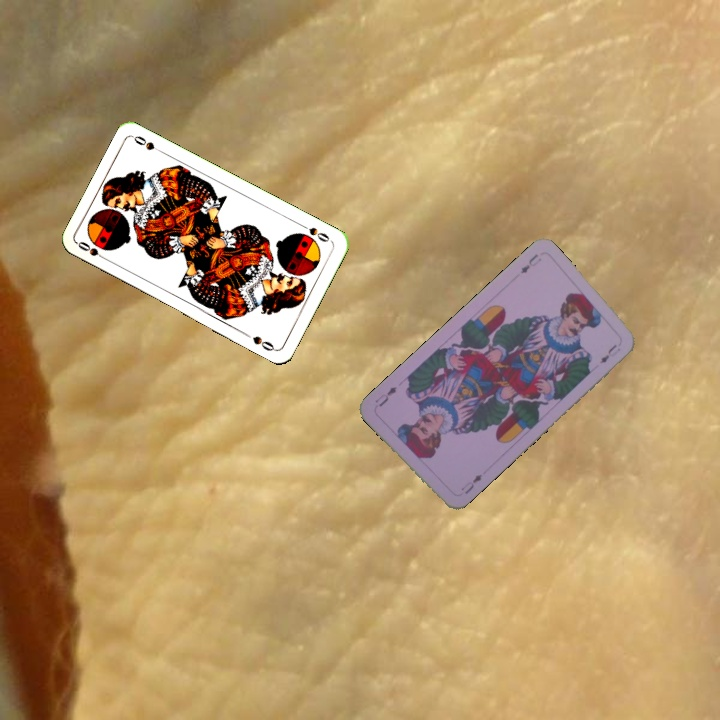EU: (457, 470, 485, 497), (516, 250, 544, 276)
SO: (74, 237, 111, 264), (297, 220, 332, 245)
